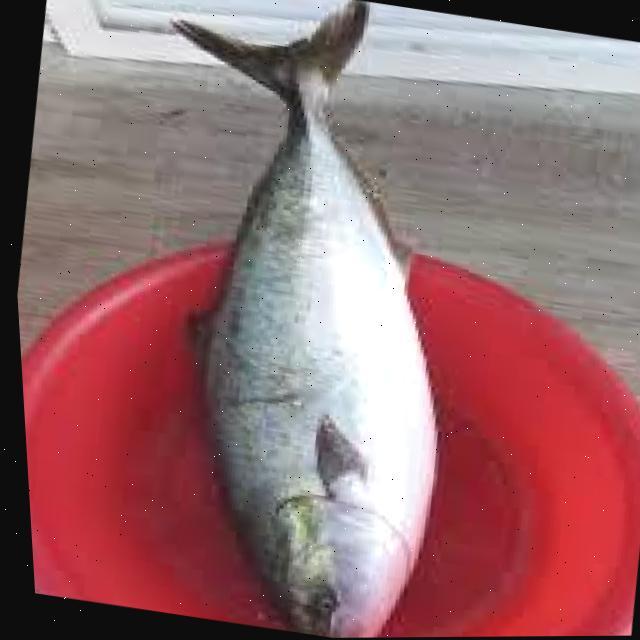Kingfish: (69, 0, 507, 640)
